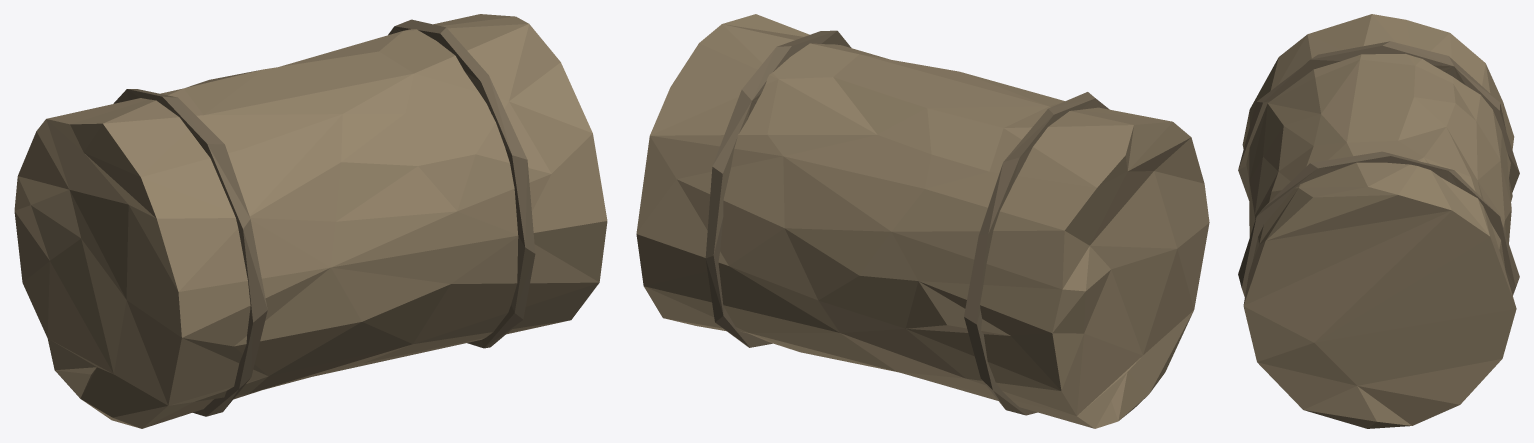
Rendered from SM_Props_Farm_Hay_Bale_Circle.fbx.
The picture shows the model from 3 angles, left to right: view 1: azimuth 30°, elevation 25°; view 2: azimuth 150°, elevation 25°; view 3: azimuth 270°, elevation 25°; orthographic projection. The views are drawn at different scales.
Parts seen in each view (by area): view 1: SM_Props_Farm_Hay_Bale_Circle; view 2: SM_Props_Farm_Hay_Bale_Circle; view 3: SM_Props_Farm_Hay_Bale_Circle.
Boxes of the visible parts, x1=… form: SM_Props_Farm_Hay_Bale_Circle: x1=14, y1=14, x2=607, y2=428; SM_Props_Farm_Hay_Bale_Circle: x1=636, y1=14, x2=1209, y2=428; SM_Props_Farm_Hay_Bale_Circle: x1=1238, y1=14, x2=1519, y2=428.
Size of the model in its own units: 263 by 171 by 174.
